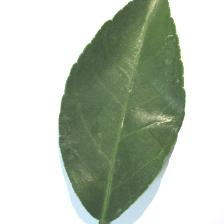healthy: (57, 0, 187, 224)
